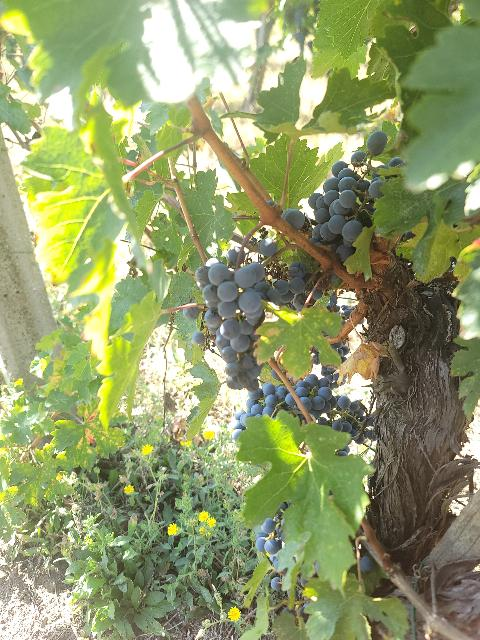grapes: (309, 131, 388, 262), (195, 260, 265, 391), (235, 374, 338, 429), (329, 396, 376, 444), (266, 261, 306, 310)
